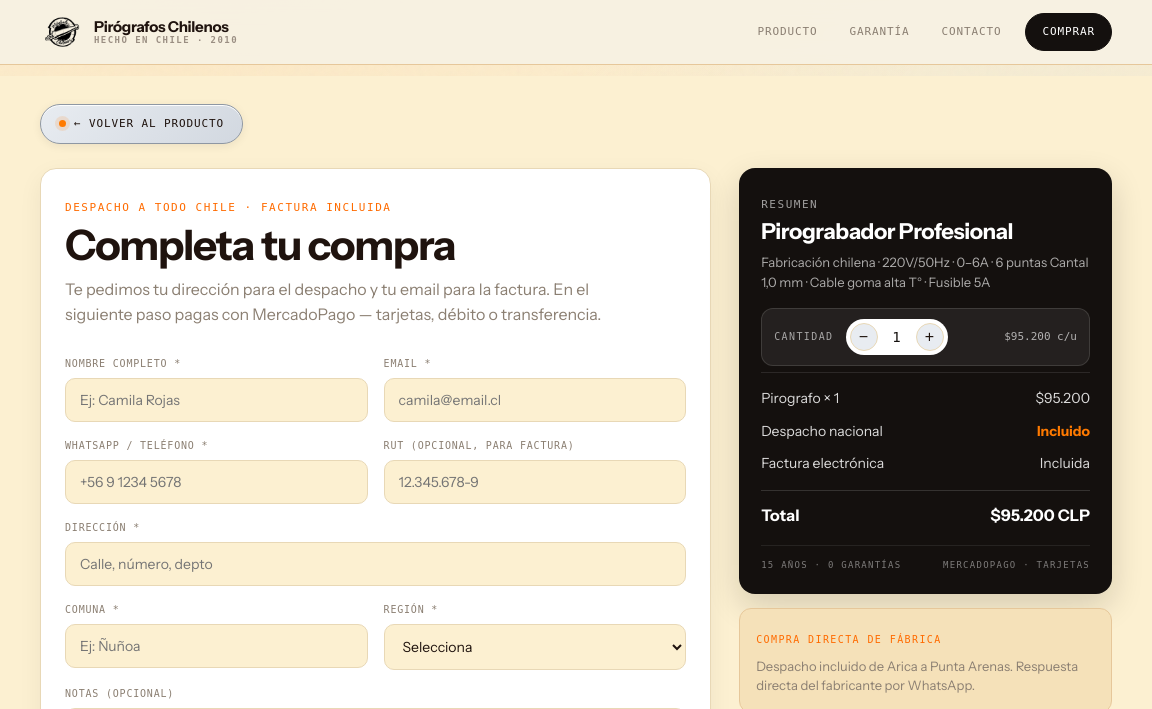
Test: CheckoutPage › selector cantidad incrementa y decrementa total
expect the text "$95.200 CLP" is shown: met, box [990,503,1090,529]
What coordinates should you click on to do the following:
click the button named "Aumentar cantidad"
I would click on:
 (930, 337)
Its box is [916,323,944,351].
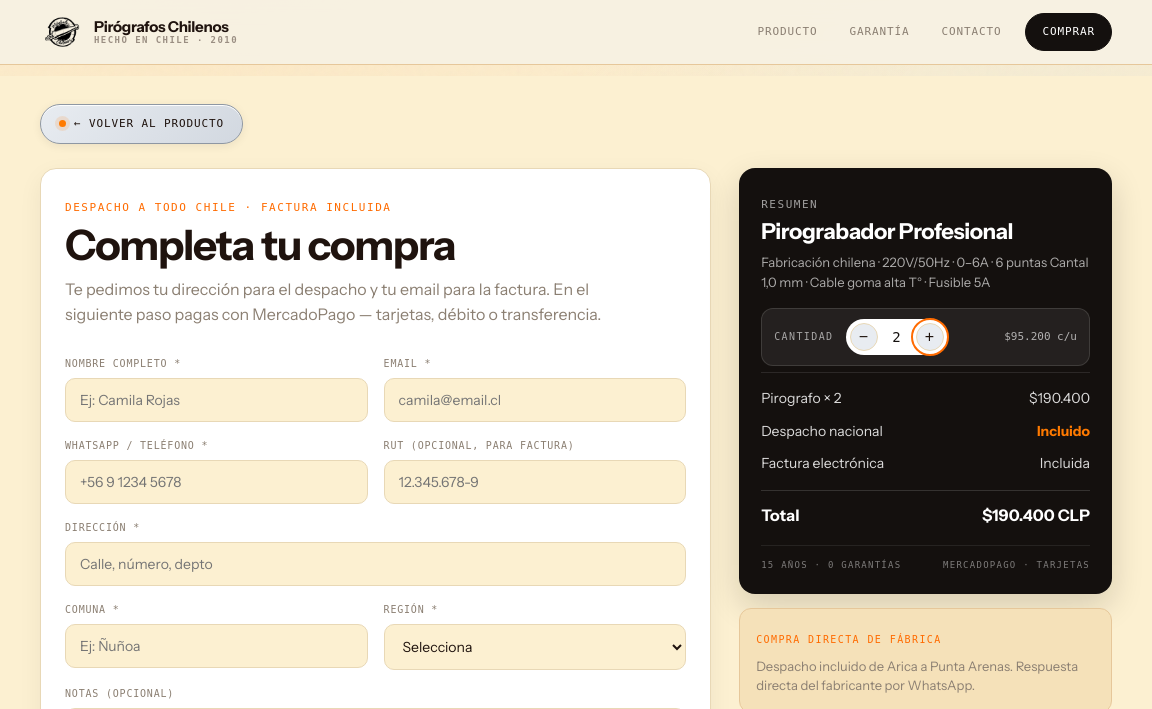
expect the text "2" is shown: met, box [892,329,901,345]
expect the text "$190.400 CLP" is shown: met, box [982,503,1090,529]
What coordinates should you click on to do the following:
click the button named "Disminuir cantidad"
I would click on:
 (864, 337)
Its box is [850,323,878,351].
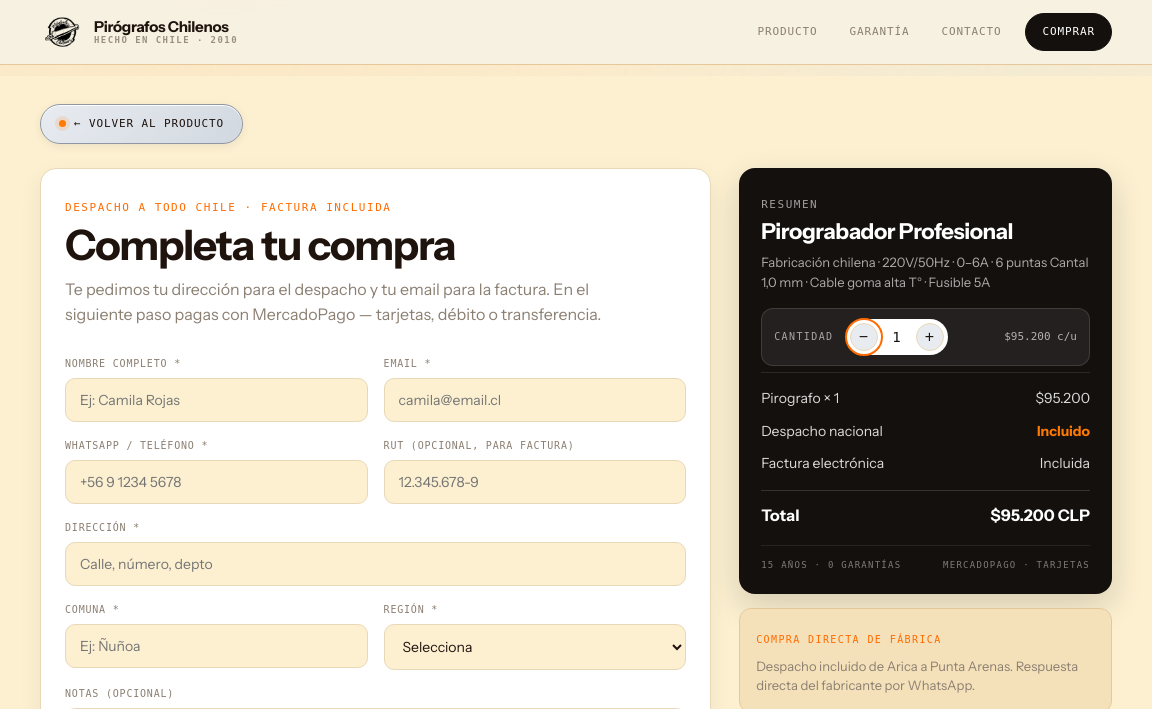
expect the text "1" is shown: met, box [892,329,901,345]
